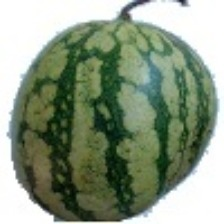watermelon: (25, 23, 224, 166)
